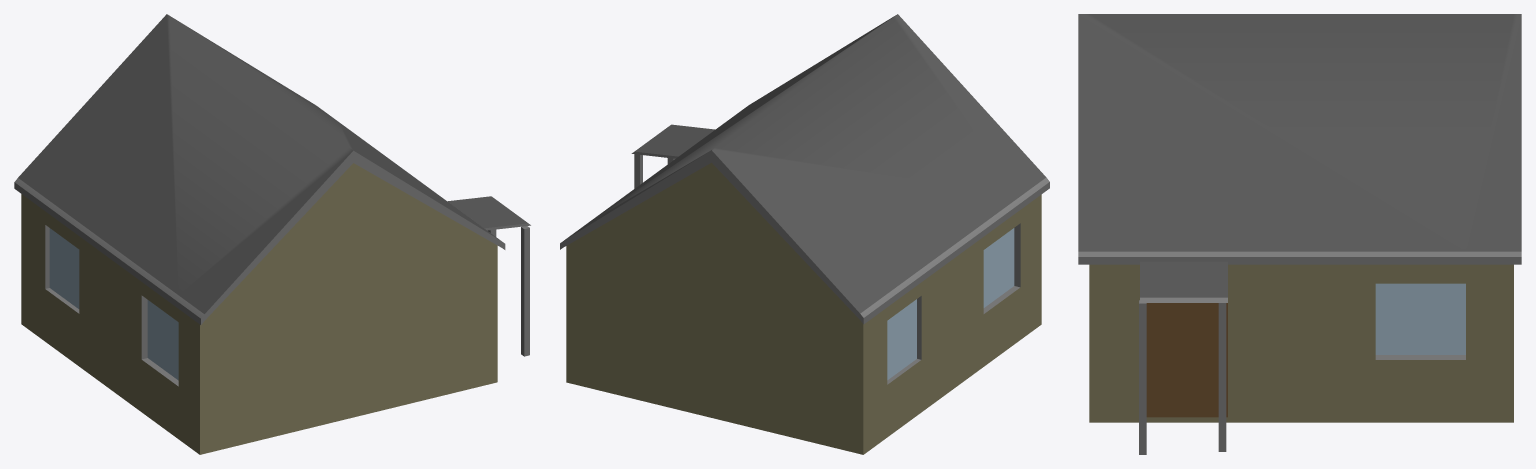
File: House1-4.fbx
3 views of the same model, side by side, from view 1: azimuth 30°, elevation 25°; view 2: azimuth 150°, elevation 25°; view 3: azimuth 270°, elevation 25° (orthographic). The views are drawn at different scales.
Parts seen in each view (by area): view 1: pCube1.002, pCube2.002; view 2: pCube1.002; view 3: pCube1.002, pCube3.002, pCube2.002.
Part boxes in pixels (left/top/right/bottom): pCube1.002: left=14, top=14, right=530, bottom=454; pCube2.002: left=521, top=226, right=529, bottom=356; pCube1.002: left=560, top=14, right=1049, bottom=454; pCube1.002: left=1078, top=14, right=1521, bottom=422; pCube3.002: left=1218, top=303, right=1226, bottom=451; pCube2.002: left=1139, top=300, right=1146, bottom=454.
Size of the model in its own units: 10.81 by 7.91 by 9.81.
